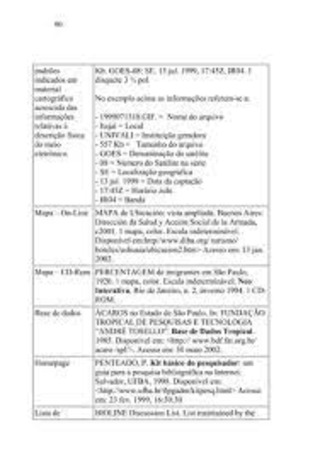Texto: (27, 58, 279, 425)
